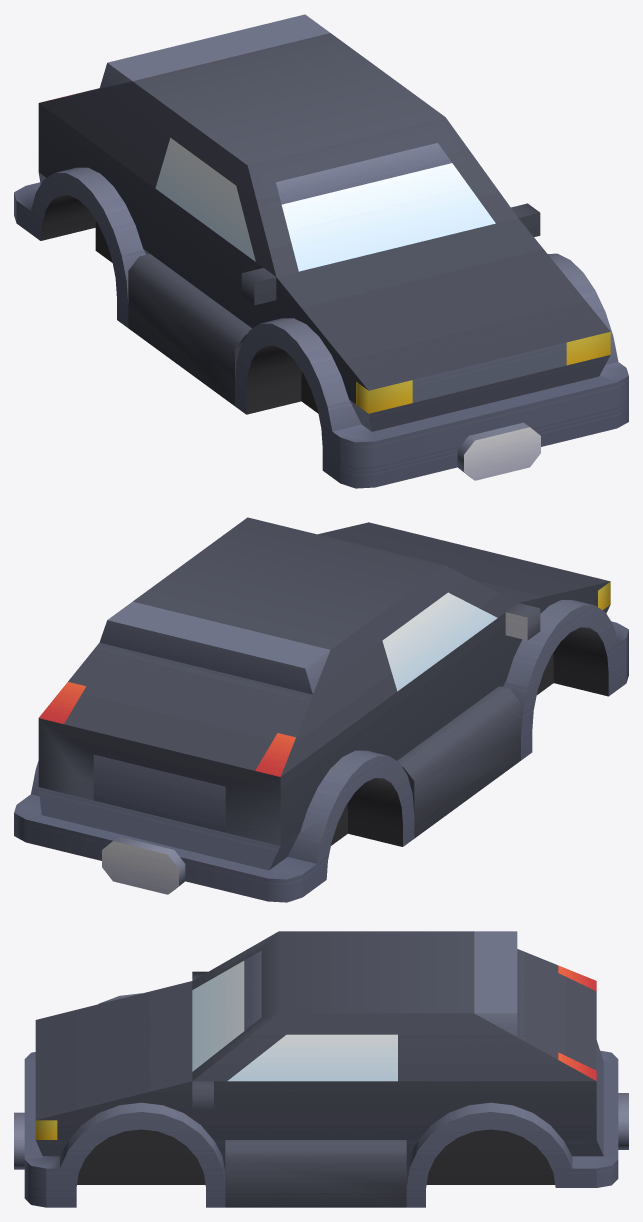
Rendered from CarNoWheel.glb.
3 renders of one model, top to bottom at view 1: azimuth 30°, elevation 25°; view 2: azimuth 150°, elevation 25°; view 3: azimuth 270°, elevation 25°, orthographic. The views are drawn at different scales.
Parts seen in each view (by area): view 1: body; view 2: body; view 3: body.
Part boxes in pixels (bbox=[...]): body: bbox=[14, 14, 628, 488]; body: bbox=[14, 517, 628, 902]; body: bbox=[14, 931, 628, 1207].
Size of the model in its own units: 6.6 by 4.83 by 14.48.
1 material, 1 textured.
